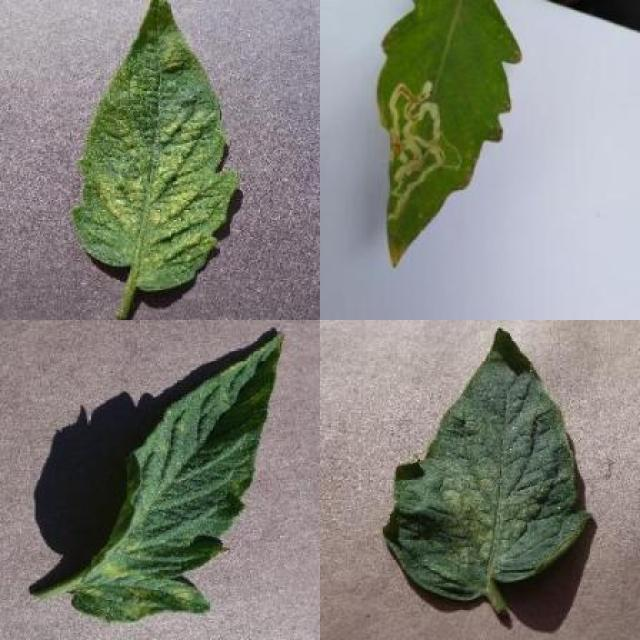Leaf Miner: (374, 0, 520, 270)
Leaf Mold: (72, 331, 284, 623)
Spider Mites: (381, 326, 594, 604), (73, 0, 237, 291)
